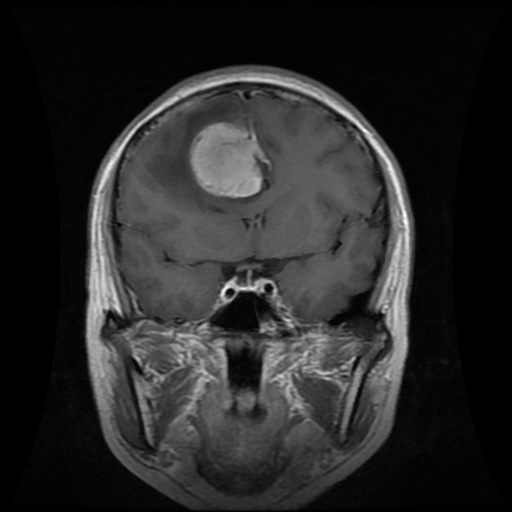meningioma: (189, 121, 271, 196)
